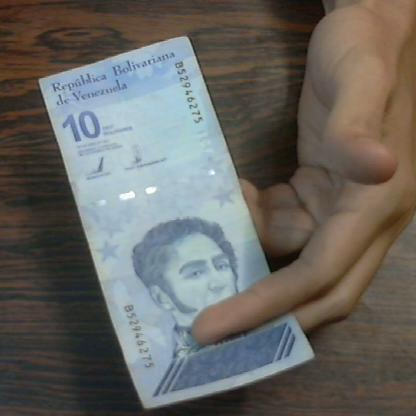vef_front: (30, 36, 317, 416)
